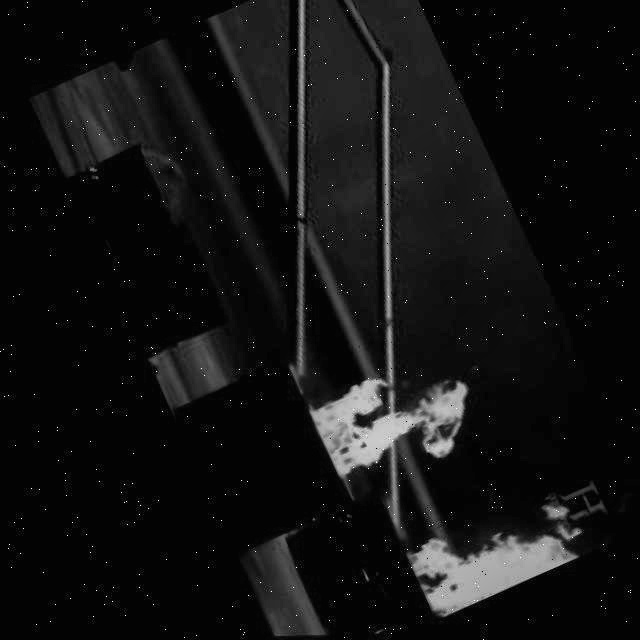Fire: (389, 455, 623, 624), (289, 313, 493, 497)
